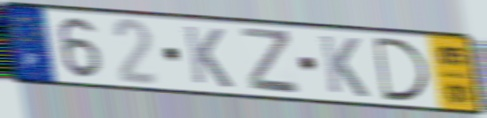2: (111, 17, 160, 87)
6: (55, 15, 105, 81)
D: (370, 35, 433, 104)
K: (317, 32, 372, 100), (181, 23, 236, 90)
Z: (239, 25, 302, 97)
